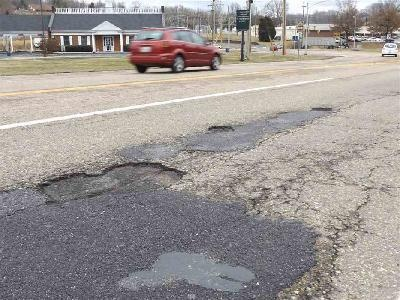pothole: (32, 161, 187, 207), (206, 123, 235, 135), (309, 103, 334, 112)
